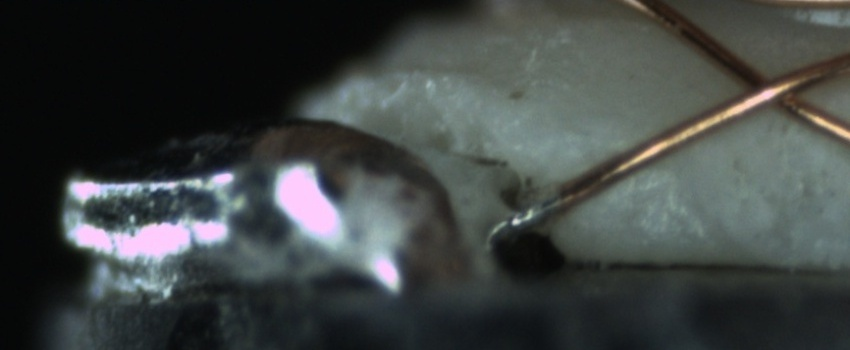CL: (716, 52, 828, 125)
TS: (505, 193, 562, 231)
